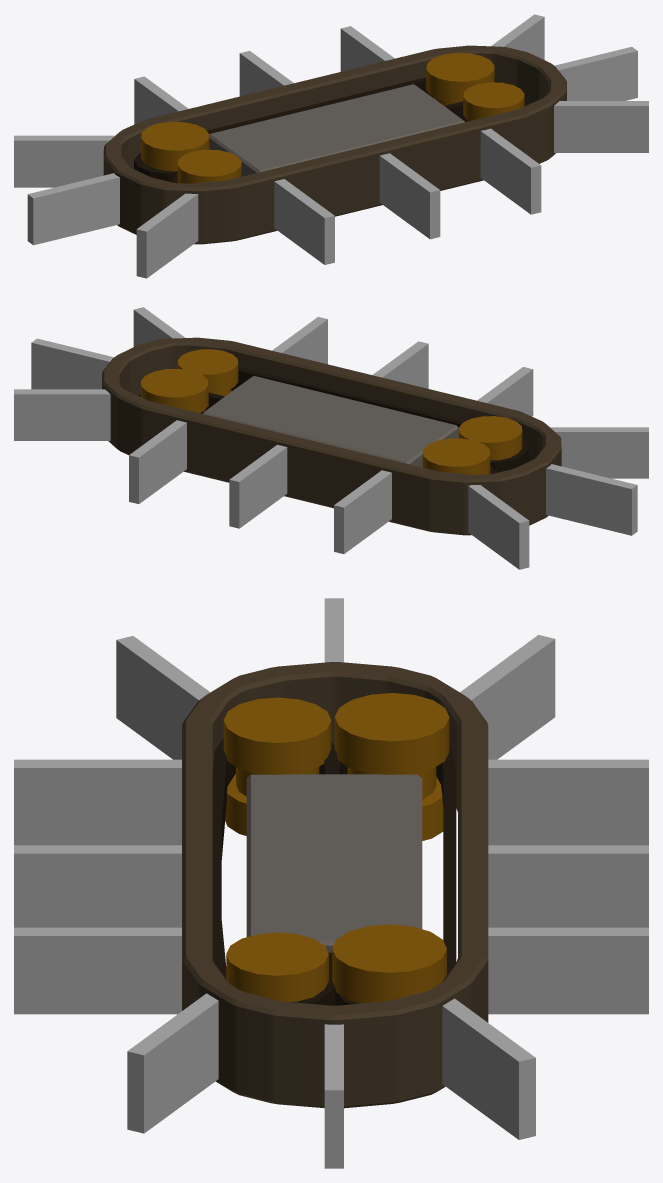
The model's file is MoveFlower.fbx.
3 renders of one model, top to bottom at view 1: azimuth 30°, elevation 25°; view 2: azimuth 150°, elevation 25°; view 3: azimuth 270°, elevation 25°, orthographic. The views are drawn at different scales.
Visible parts, largest first — view 1: pPlane5, pCube5, pCube17, pCube13, pCube16, pCube15, pCube12, pCube8, pCube7, pCube6, pCylinder11, pCylinder5 (+7 smaller); view 2: pPlane5, pCube5, pCube14, pCube13, pCube15, pCube16, pCube12, pCube10, pCube9, pCube11, pCylinder11, pCylinder5 (+7 smaller); view 3: pPlane5, pCube5, pCube8, pCube6, pCube11, pCube9, pCube7, pCube10, pCylinder5, pCube14, pCylinder9, pCube17 (+8 smaller).
Part boxes in pixels (x1,y1,x2,y2): pPlane5: [103, 45, 566, 244]; pCube5: [209, 84, 464, 176]; pCube17: [554, 101, 648, 152]; pCube13: [27, 173, 119, 245]; pCube16: [14, 135, 114, 187]; pCube15: [136, 193, 198, 278]; pCube12: [554, 47, 637, 100]; pCube8: [480, 128, 541, 214]; pCube7: [379, 153, 440, 239]; pCube6: [274, 179, 334, 264]; pCylinder11: [426, 53, 494, 105]; pCylinder5: [141, 121, 209, 171]; pPlane5: [102, 337, 561, 535]; pCube5: [202, 376, 458, 467]; pCube14: [14, 389, 110, 440]; pCube13: [546, 464, 637, 535]; pCube15: [550, 427, 648, 478]; pCube16: [468, 485, 529, 569]; pCube12: [31, 338, 113, 389]; pCube10: [229, 444, 287, 528]; pCube9: [334, 470, 391, 553]; pCube11: [129, 420, 186, 503]; pCylinder11: [141, 368, 208, 413]; pCylinder5: [422, 438, 490, 474]; pPlane5: [182, 662, 488, 1108]; pCube5: [246, 774, 422, 952]; pCube8: [14, 927, 181, 1014]; pCube6: [14, 759, 181, 845]; pCube11: [488, 927, 648, 1014]; pCube9: [488, 759, 648, 845]; pCube7: [14, 845, 181, 927]; pCube10: [488, 845, 648, 927]; pCylinder5: [334, 693, 449, 840]; pCube14: [442, 998, 535, 1139]; pCylinder9: [223, 697, 331, 835]; pCube17: [127, 993, 218, 1133].
Size of the model in its own units: 17.96 by 1.77 by 9.8.
